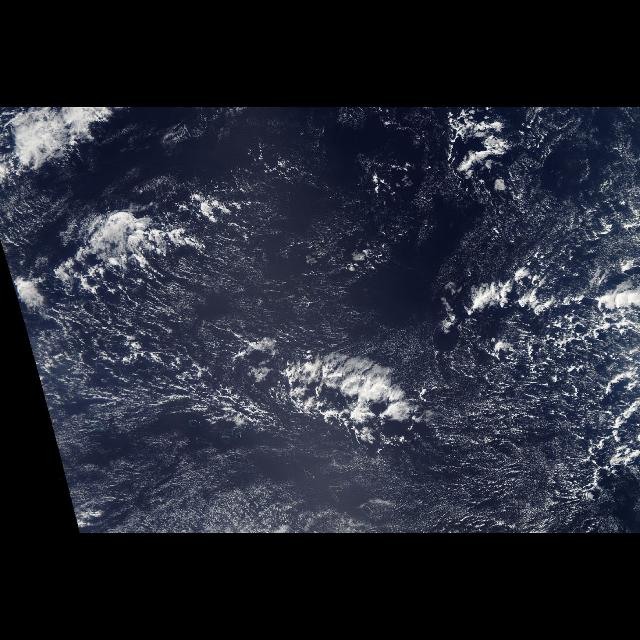Sugar: (16, 177, 640, 533)
